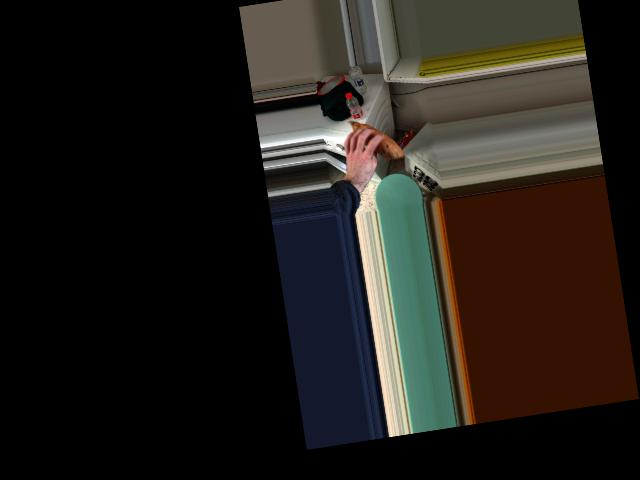sweet_potato: (345, 116, 401, 165)
